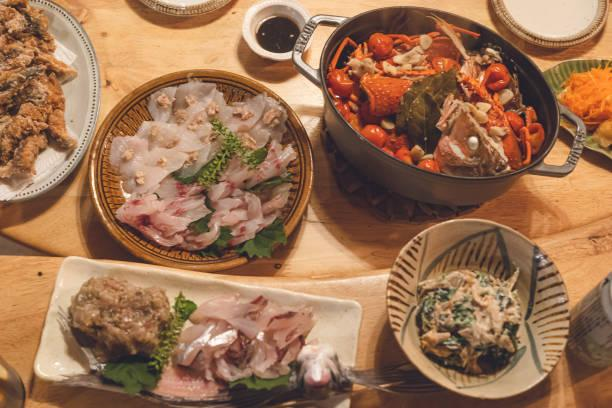Braised Crucian Carp: (296, 6, 578, 210), (32, 254, 360, 407), (88, 68, 310, 268), (388, 217, 570, 397), (1, 0, 99, 204)
